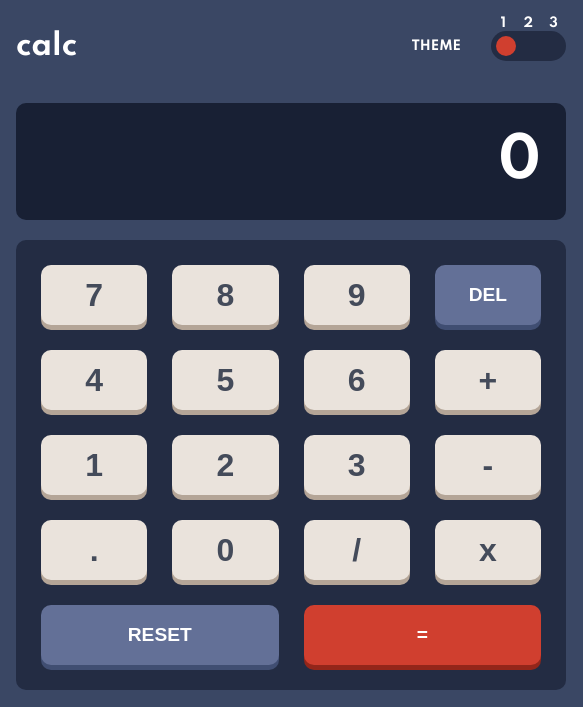
Simple App integration tests › Single operation tests › 1 + 2 = 3
What coordinates should you click on to do the following:
click the 2nd button "1"
I would click on:
 (94, 465)
Its box is [41, 435, 147, 495].
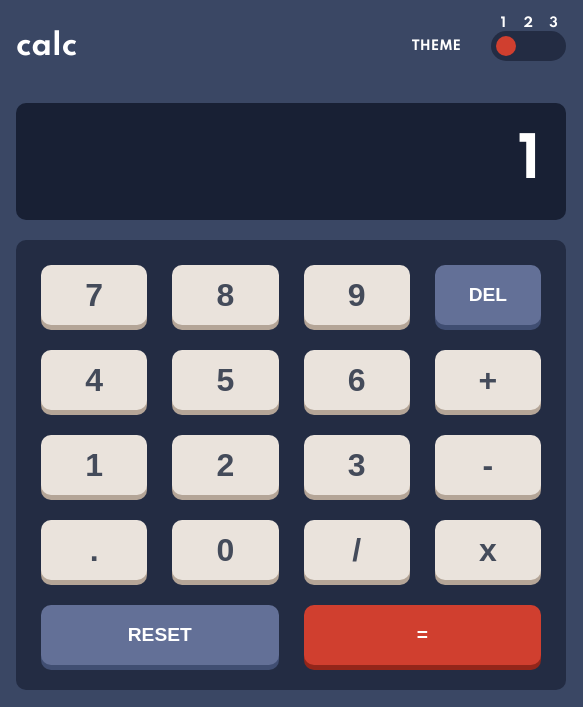
Expected: the text "1" is shown, [518, 129, 541, 194]
What coordinates should you click on to do the following:
click the button with id "add"
I would click on:
 (488, 380)
Its box is [435, 350, 541, 410].
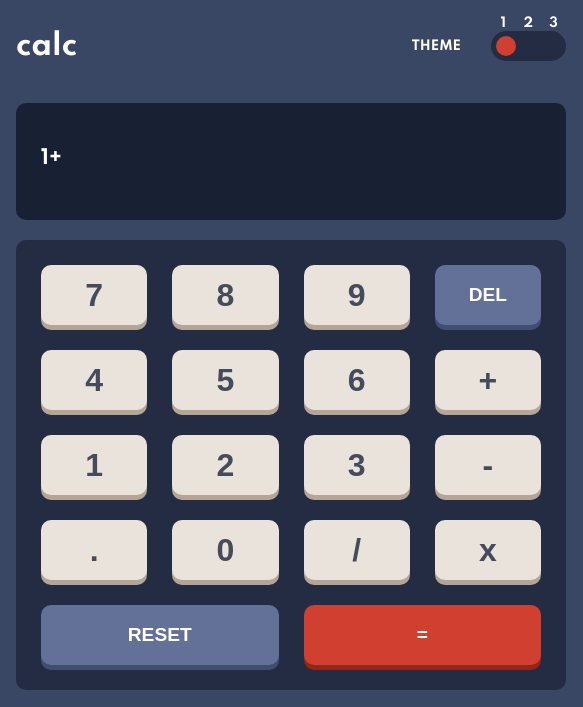
What coordinates should you click on to do the following:
click the 2nd button "2"
I would click on:
 (225, 465)
Its box is [172, 435, 279, 495].
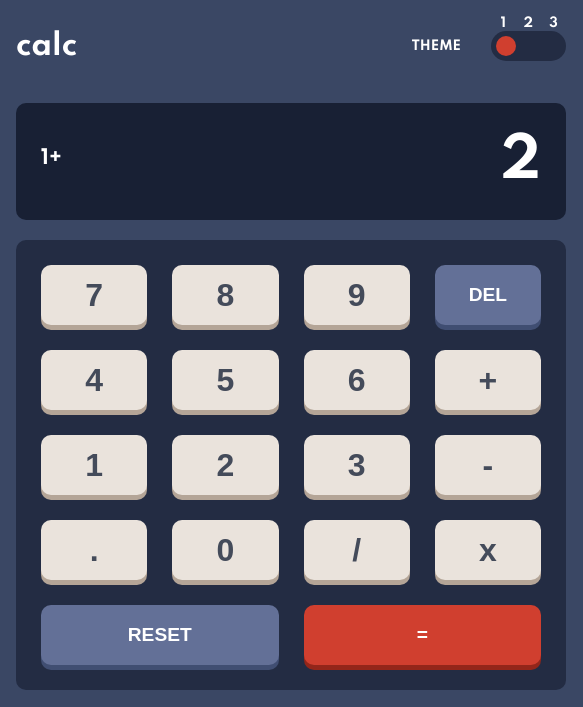
Expected: the text "2" is shown, [502, 129, 541, 194]
What coordinates should you click on to do the following:
click the button with id "equals"
I would click on:
 (422, 635)
Its box is [304, 605, 541, 665].
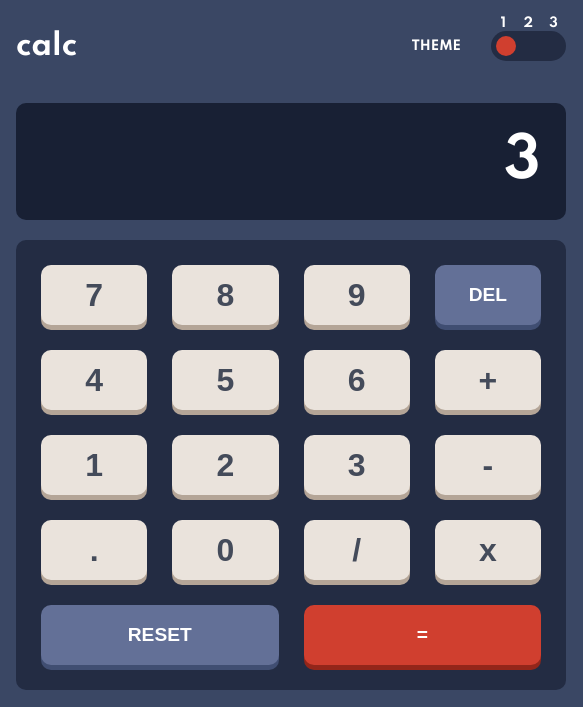
Expected: the text "3" is shown, [504, 129, 541, 194]
